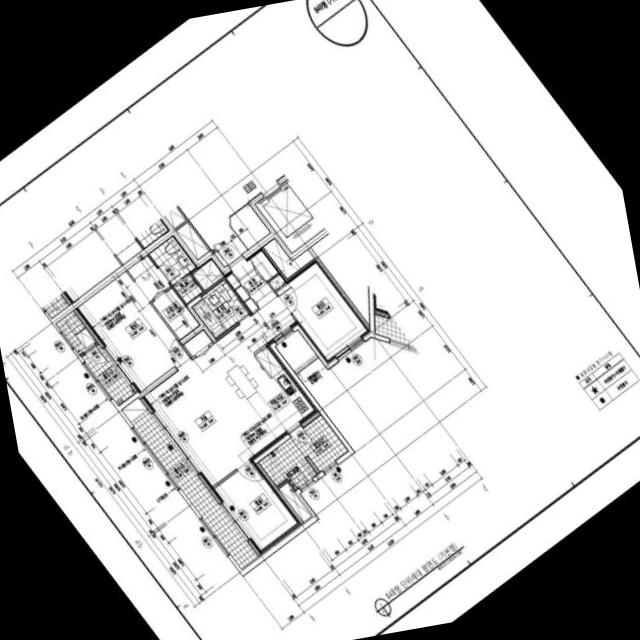background: (0, 0, 640, 640)
space_balconi: (122, 397, 258, 568), (258, 415, 348, 488), (82, 344, 135, 404), (56, 310, 96, 354)
space_bedroom: (76, 255, 189, 392), (276, 262, 368, 363), (212, 460, 300, 554)
space_dressroom: (152, 288, 199, 339)
space_front: (226, 250, 277, 313)
space_kitchen: (228, 345, 317, 440)
space_living_room: (142, 296, 296, 487)
space_other: (263, 238, 314, 278), (278, 482, 311, 521), (193, 259, 223, 289), (184, 330, 211, 356), (269, 274, 285, 289)
space_toilet: (149, 236, 202, 303), (192, 279, 248, 337)
